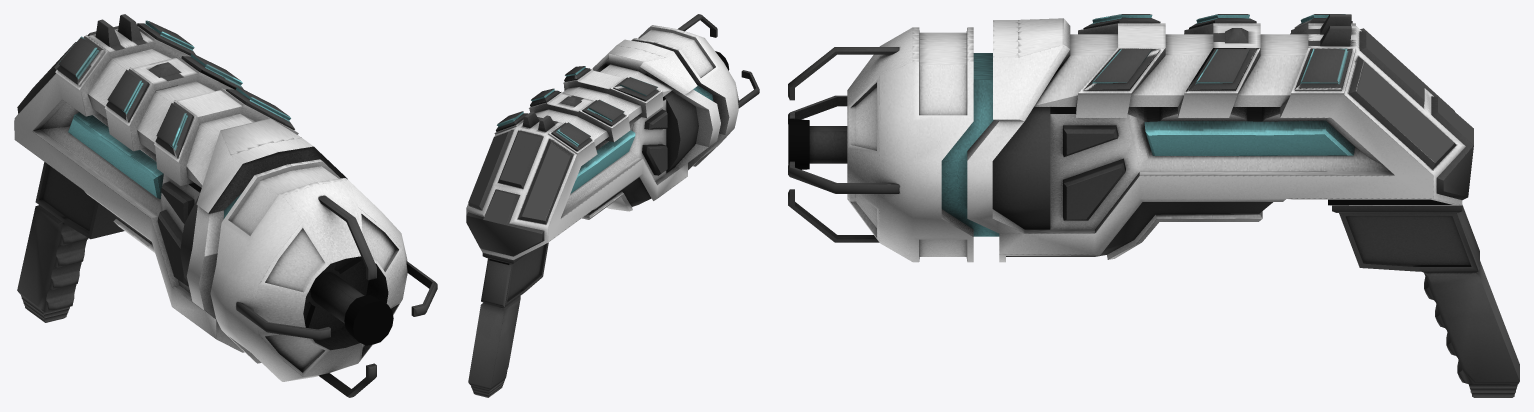
Rendered from GravityGun.fbx.
3 renders of one model, left to right at view 1: azimuth 30°, elevation 25°; view 2: azimuth 150°, elevation 25°; view 3: azimuth 270°, elevation 25°, orthographic. The views are drawn at different scales.
Parts seen in each view (by area): view 1: GravityGun; view 2: GravityGun; view 3: GravityGun.
Part boxes in pixels (x1,y1,x2,y2): GravityGun: (14, 14, 437, 397); GravityGun: (466, 14, 759, 397); GravityGun: (788, 14, 1519, 397).
Size of the model in its own units: 3.57 by 6.42 by 11.45.
1 material, 1 textured.
